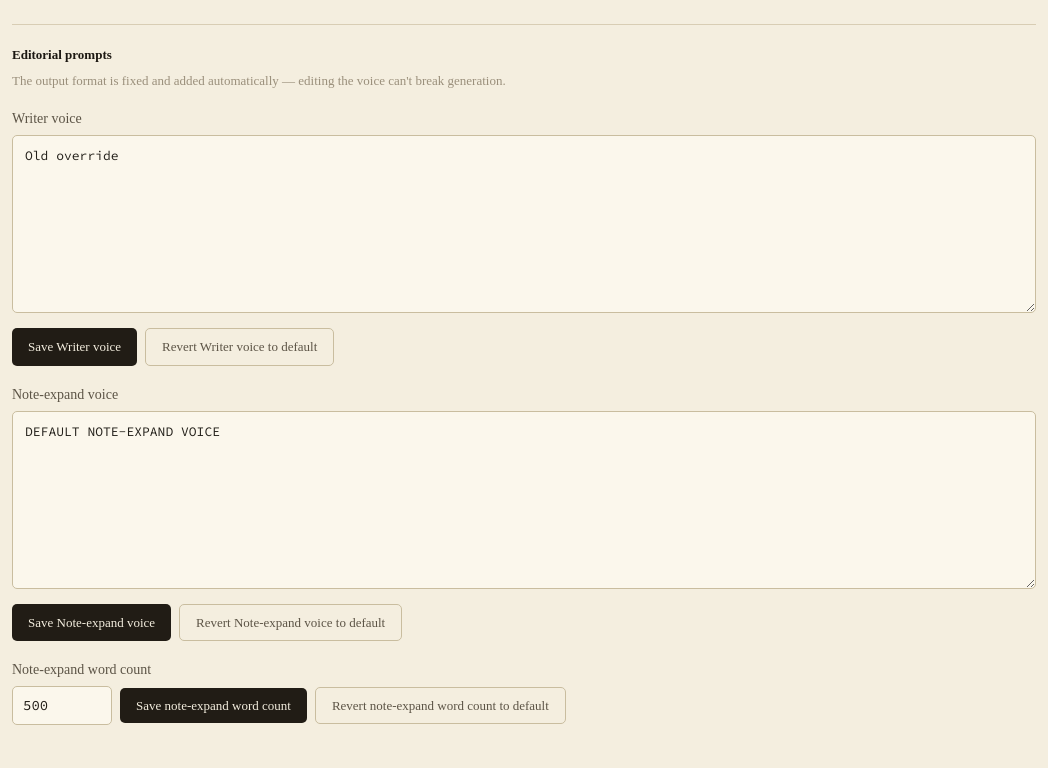
revert writer voice clears the override and restores the default
Click the button "Revert Writer voice to default". click: point(240, 347)
box: [145,328,334,366]
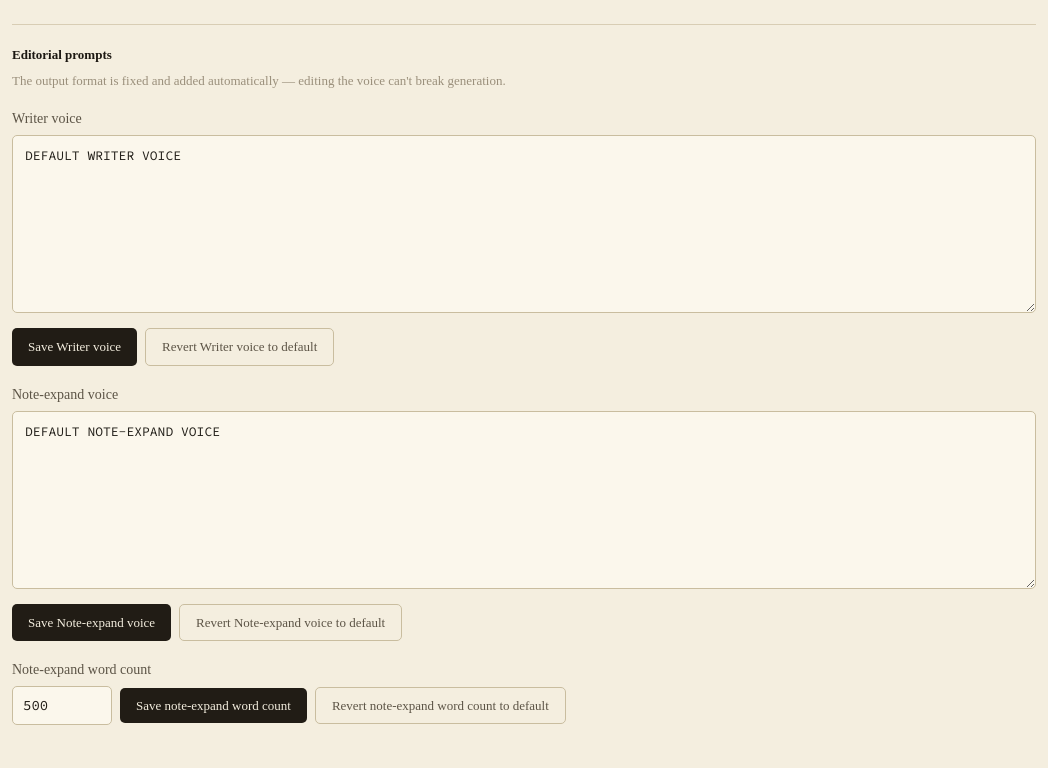
Check: the text box named "writer voice" holds "DEFAULT WRITER VOICE", box [12,135,1036,313]
